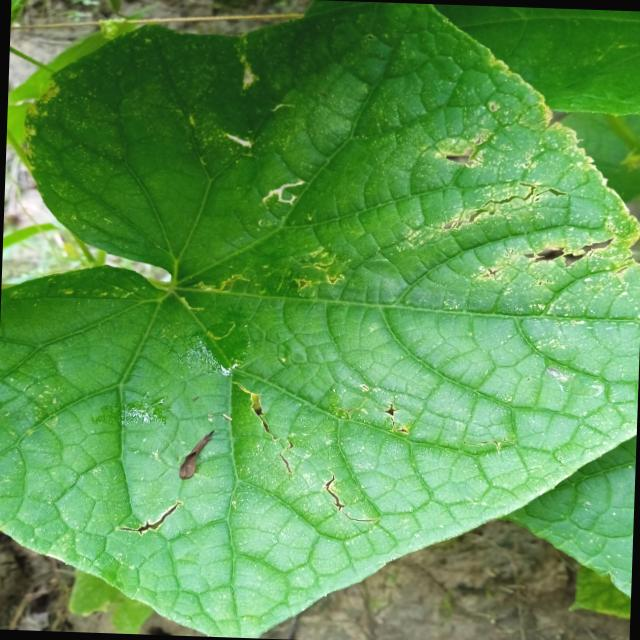cucumber_anthracnose: (30, 48, 640, 580)
